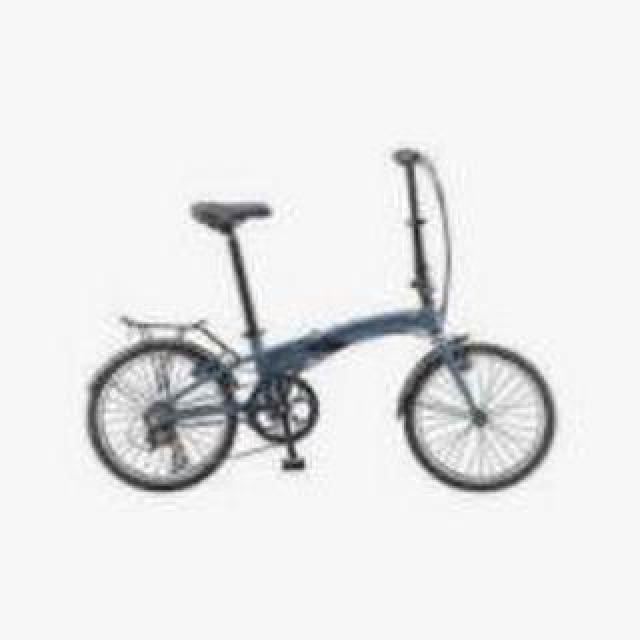Person: (85, 145, 561, 505)
